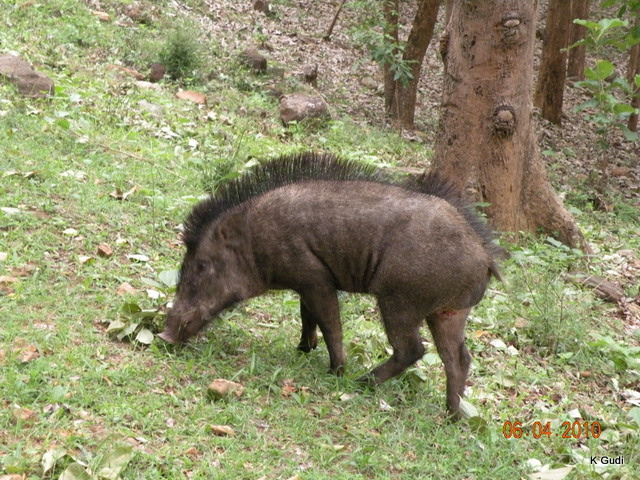boar: (153, 138, 509, 419)
